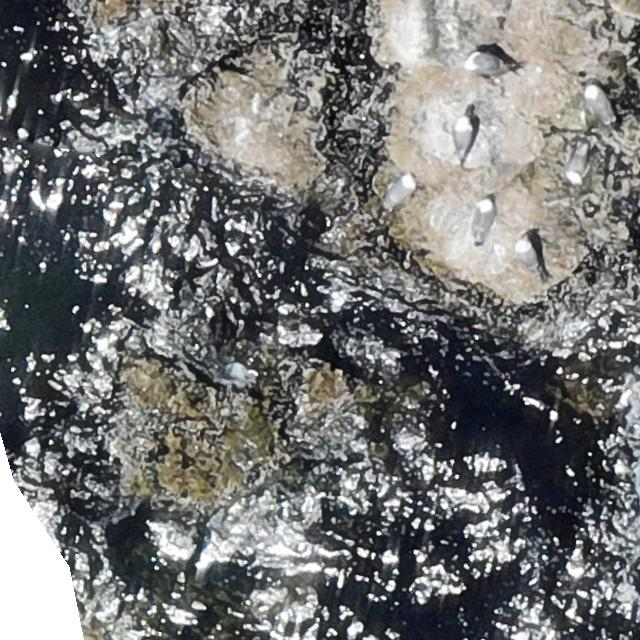umineko: (513, 234, 549, 282), (453, 116, 475, 158), (388, 176, 414, 205), (567, 147, 587, 180), (468, 53, 501, 73), (586, 87, 606, 117), (478, 202, 494, 233)
